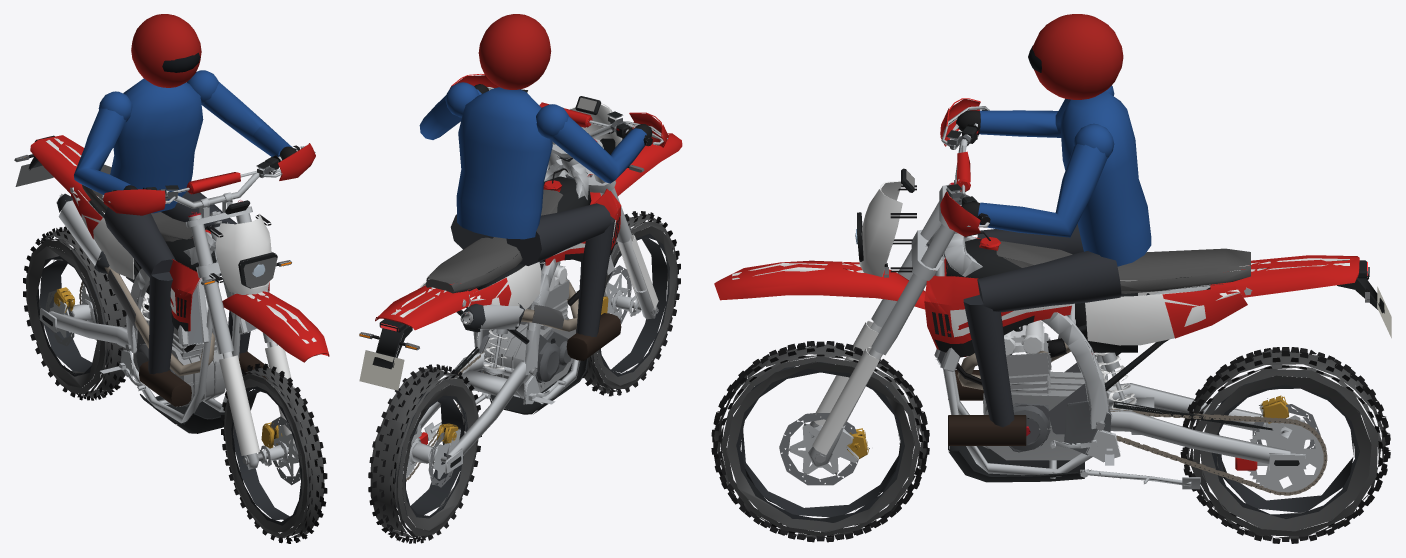
Rendered from vb_enduro.glb.
The picture shows the model from 3 angles, left to right: view 1: azimuth 30°, elevation 25°; view 2: azimuth 150°, elevation 25°; view 3: azimuth 270°, elevation 25°; orthographic projection. The views are drawn at different scales.
Visible parts, largest first — view 1: body, fork, rider_torso, wheel_rear, wheel_front, rider_legs, rider_head; view 2: body, rider_torso, wheel_rear, rider_legs, wheel_front, fork, rider_head; view 3: body, wheel_rear, fork, wheel_front, rider_torso, rider_legs, rider_head.
Boxes of the visible parts, bbox=[...] form: body: bbox=[14, 135, 269, 433]; fork: bbox=[102, 143, 329, 469]; rider_torso: bbox=[74, 70, 296, 213]; wheel_rear: bbox=[23, 226, 131, 400]; wheel_front: bbox=[221, 363, 327, 543]; rider_legs: bbox=[104, 186, 268, 406]; rider_head: bbox=[131, 14, 201, 87]; body: bbox=[359, 155, 621, 481]; rider_torso: bbox=[419, 82, 652, 239]; wheel_rear: bbox=[368, 364, 481, 543]; rider_legs: bbox=[450, 203, 621, 360]; wheel_front: bbox=[576, 211, 680, 396]; fork: bbox=[450, 74, 682, 319]; rider_head: bbox=[478, 14, 551, 89]; body: bbox=[924, 225, 1391, 495]; wheel_rear: bbox=[1180, 347, 1390, 543]; fork: bbox=[714, 98, 990, 466]; wheel_front: bbox=[711, 341, 929, 542]; rider_torso: bbox=[956, 85, 1151, 266]; rider_legs: bbox=[948, 224, 1121, 445]; rider_head: bbox=[1028, 14, 1123, 99].
Bounding box in the file's own units: 0.9185 × 1.84 × 2.16.
